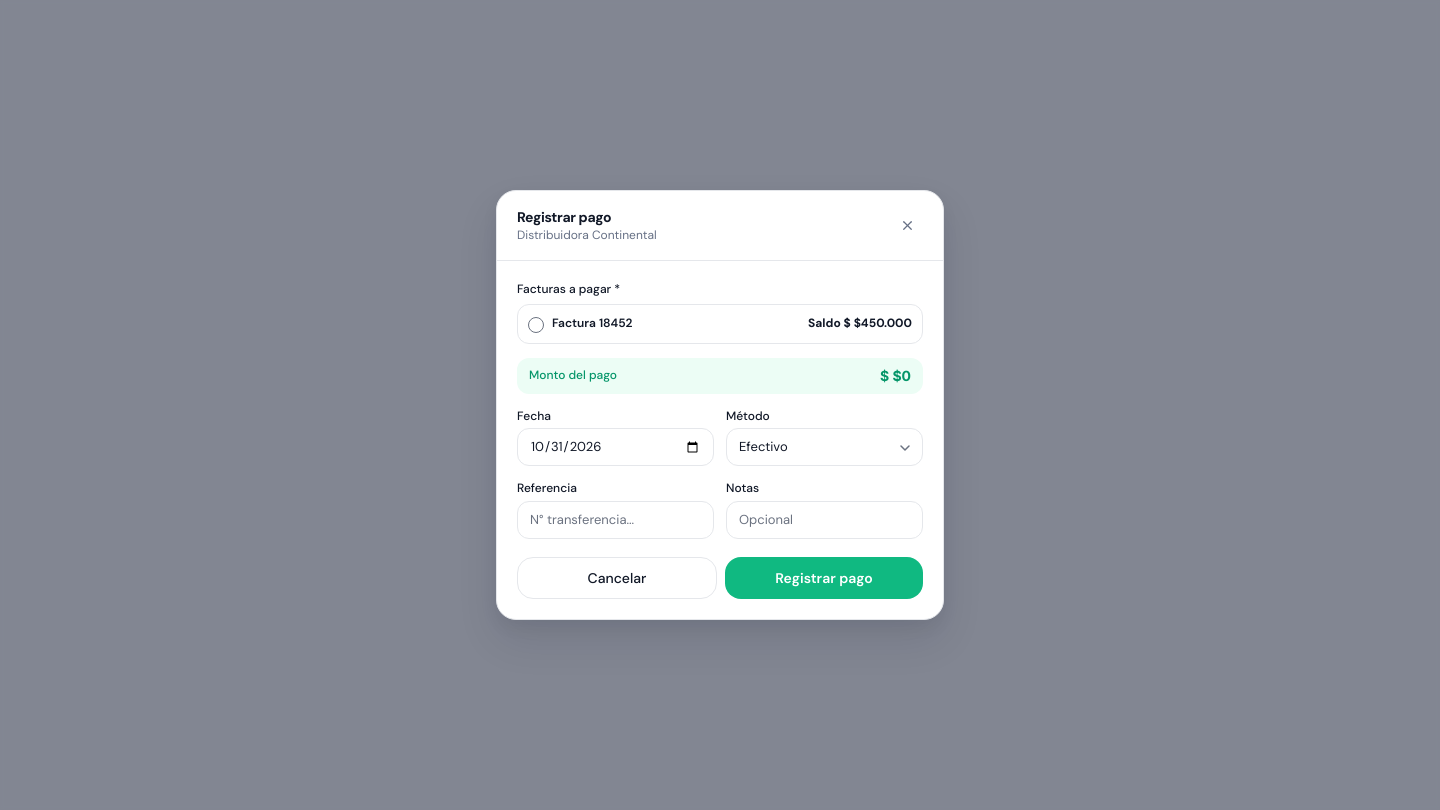
it: Escenario 8 — amount del pago = suma de allocations, siempre, por construcción › sin ninguna factura tildada, el monto del pago es $0 y el submit se rechaza
The image size is (1440, 810).
Expected: the text "$ $0" is shown, [880,366,911,386]
Click the button "Registrar pago" at (824, 578), box [725,557,923,599]
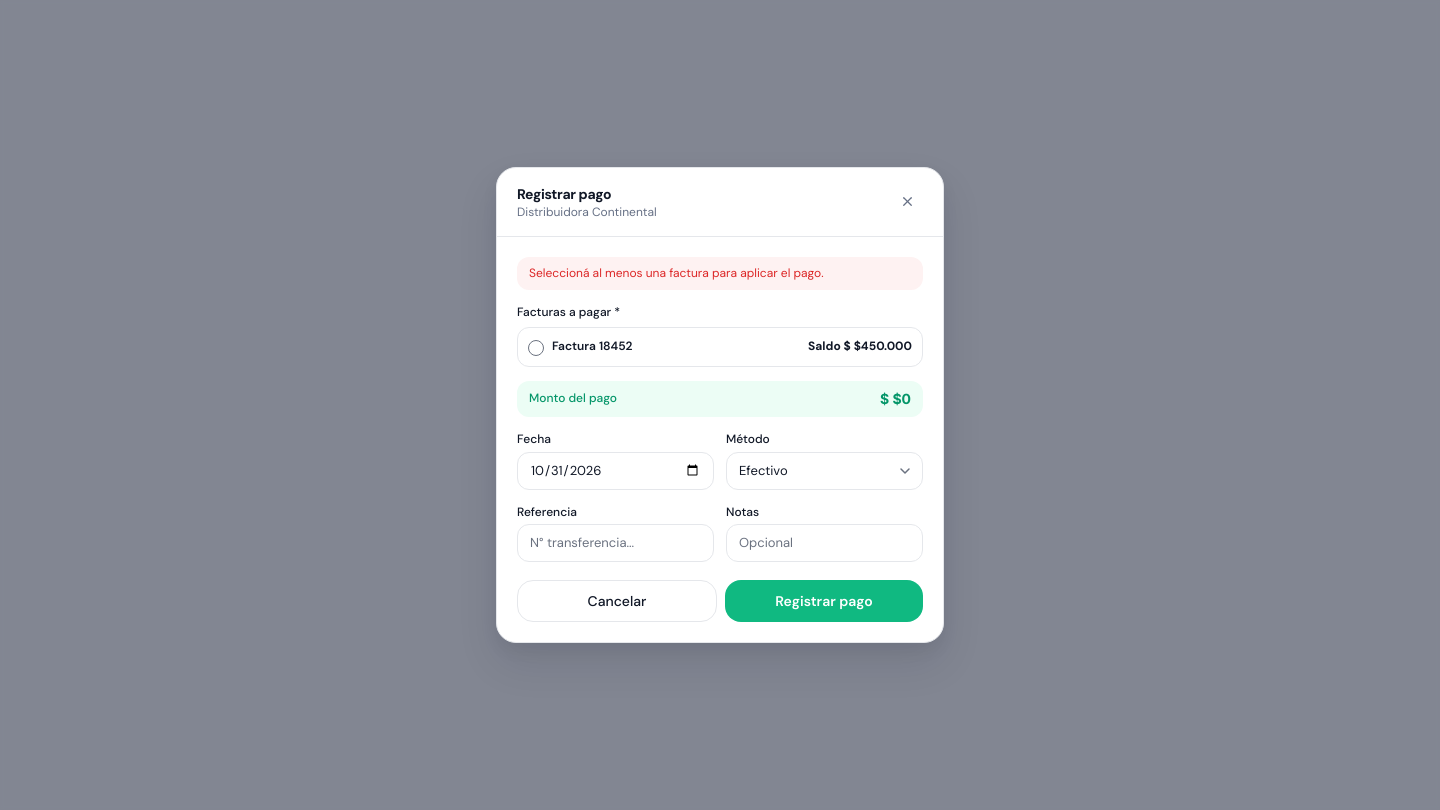
Expected: the text "Seleccioná al menos una factura para aplicar el pago." is shown, [517,257,923,290]
